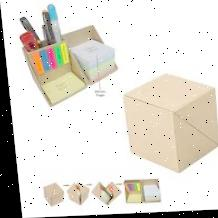cube: (121, 74, 218, 175)
